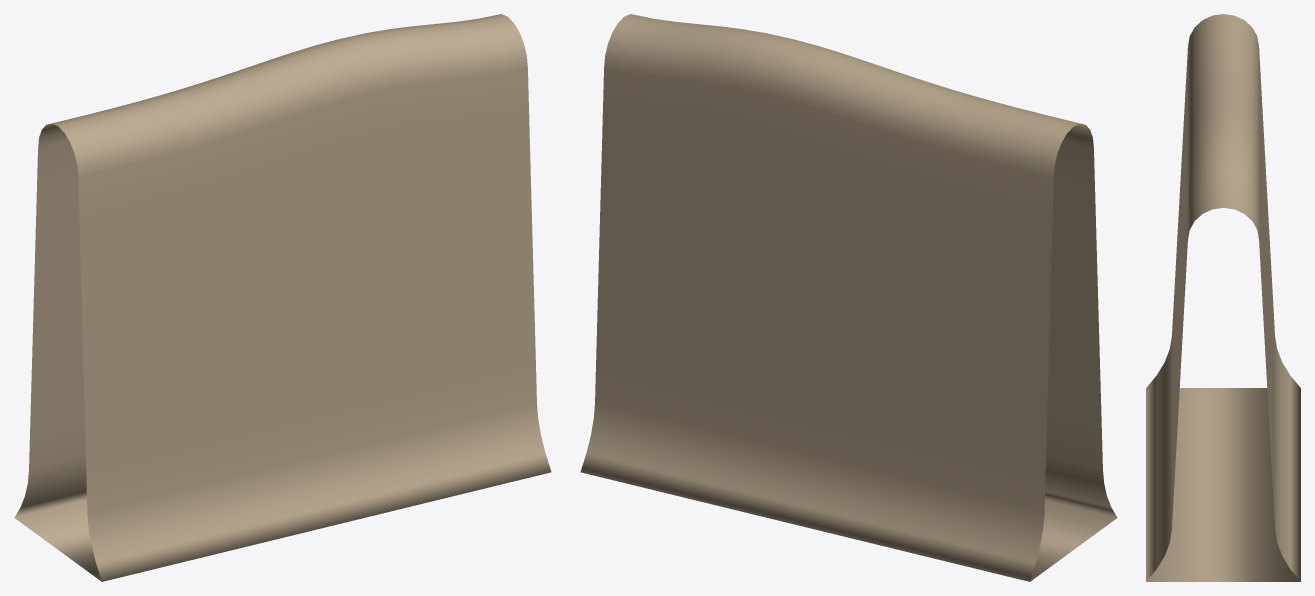
Rendered from KFB_Wall_straight_b.r4.glb.
The picture shows the model from 3 angles, left to right: view 1: azimuth 30°, elevation 25°; view 2: azimuth 150°, elevation 25°; view 3: azimuth 270°, elevation 25°; orthographic projection. The views are drawn at different scales.
Visible parts, largest first — view 1: KFB_Wall_straight_b; view 2: KFB_Wall_straight_b; view 3: KFB_Wall_straight_b.
Part boxes in pixels (left/top/right/bottom): KFB_Wall_straight_b: left=14, top=14, right=551, bottom=581; KFB_Wall_straight_b: left=580, top=14, right=1117, bottom=581; KFB_Wall_straight_b: left=1146, top=14, right=1300, bottom=581.
Size of the model in its own units: 4 by 3.72 by 1.35.
